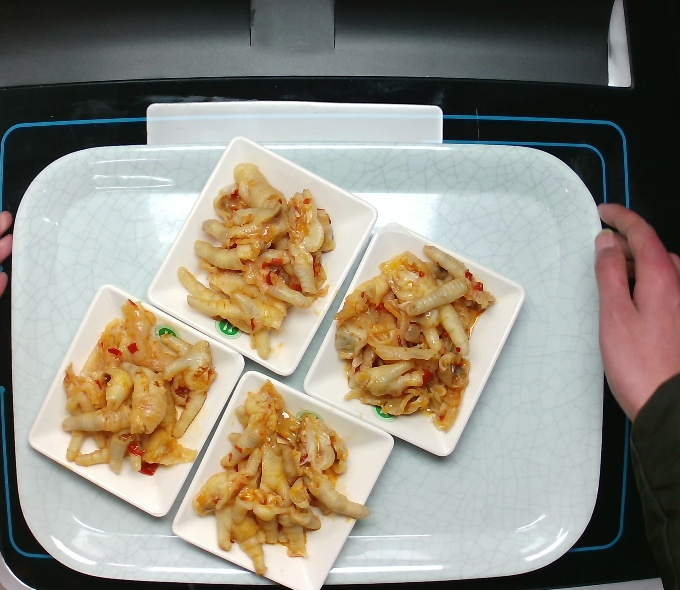wcq-LuJiZhua: (188, 374, 373, 580), (323, 238, 499, 441), (171, 157, 339, 364), (49, 295, 220, 487)
